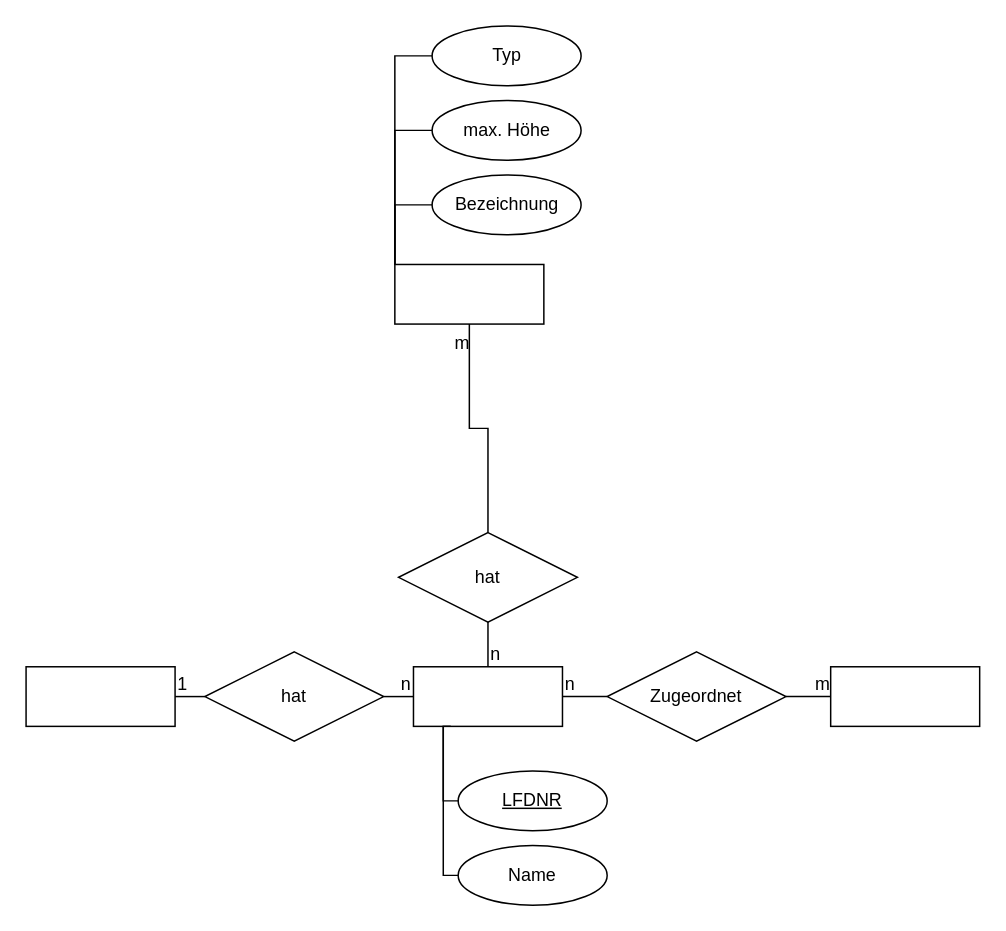
Image size: 1006x931. Some labels were removed from this diagram. Each missing label, with the centre of its shape:
"Bäume" goes at (468,293).
"Eigentümer" goes at (100,695).
"Ort" goes at (904,695).
"Wald" goes at (487,695).
